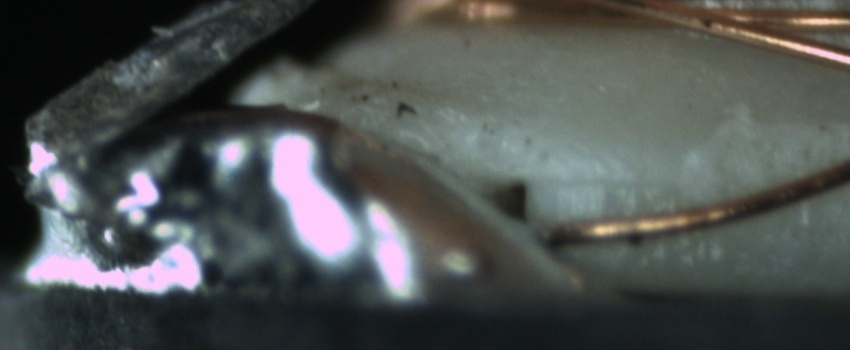DL: (541, 150, 673, 211)
